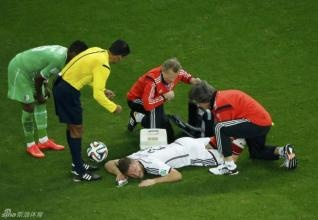falling: (96, 119, 217, 192)
